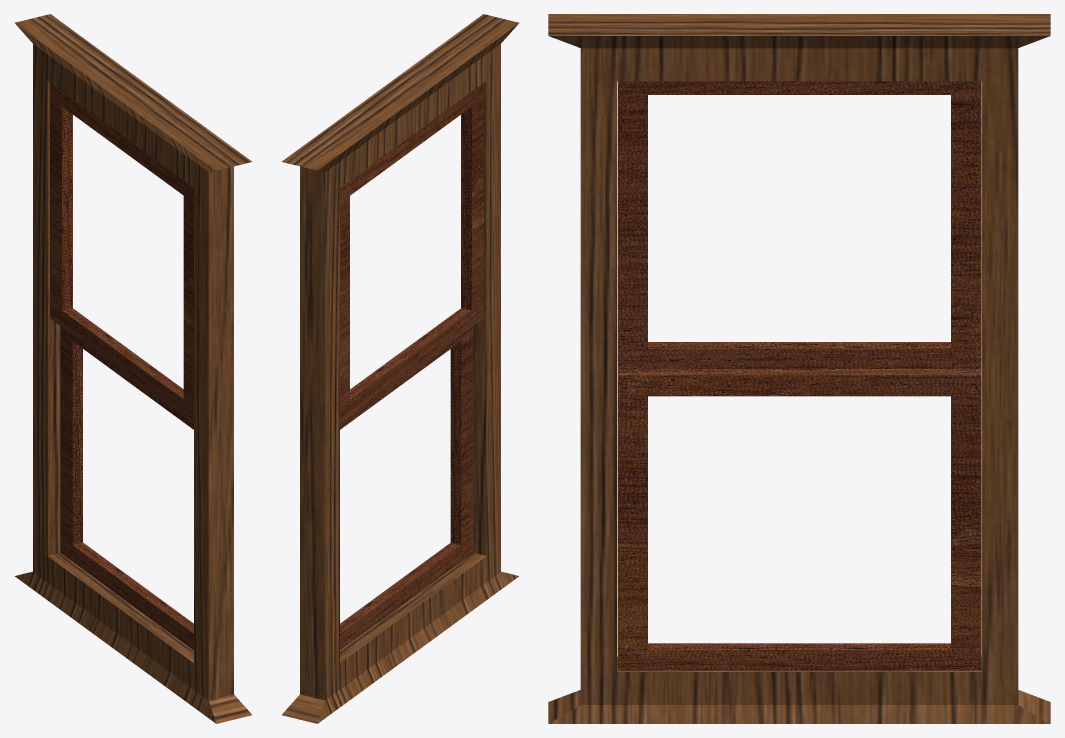
Rendered from Window.fbx.
3 views of the same model, side by side, from view 1: azimuth 30°, elevation 25°; view 2: azimuth 150°, elevation 25°; view 3: azimuth 270°, elevation 25° (orthographic). The views are drawn at different scales.
Visible parts, largest first — view 1: pasted__DoorFrame1, pCube4, pCube3; view 2: pasted__DoorFrame1, pCube4, pCube3; view 3: pasted__DoorFrame1, pCube3, pCube4.
Boxes of the visible parts, <box> form: pasted__DoorFrame1: <box>14,14,252,723</box>; pCube4: <box>50,83,193,423</box>; pCube3: <box>60,326,193,650</box>; pasted__DoorFrame1: <box>281,14,519,723</box>; pCube4: <box>340,83,483,423</box>; pCube3: <box>340,326,473,650</box>; pasted__DoorFrame1: <box>548,14,1050,723</box>; pCube3: <box>618,369,981,670</box>; pCube4: <box>618,81,981,368</box>.
Size of the model in its own units: 0.1716 by 2.51 by 1.66.
Materials: 2 (2 with a texture image).
